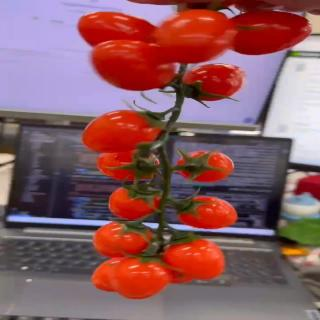tomato: (88, 42, 175, 93), (158, 8, 232, 63), (224, 12, 312, 56), (78, 110, 163, 155), (74, 10, 158, 50), (161, 237, 226, 280), (176, 62, 246, 101), (111, 258, 175, 299), (94, 146, 157, 184), (90, 222, 153, 259), (92, 256, 148, 295), (177, 196, 240, 230), (109, 184, 163, 220), (177, 151, 236, 183)
